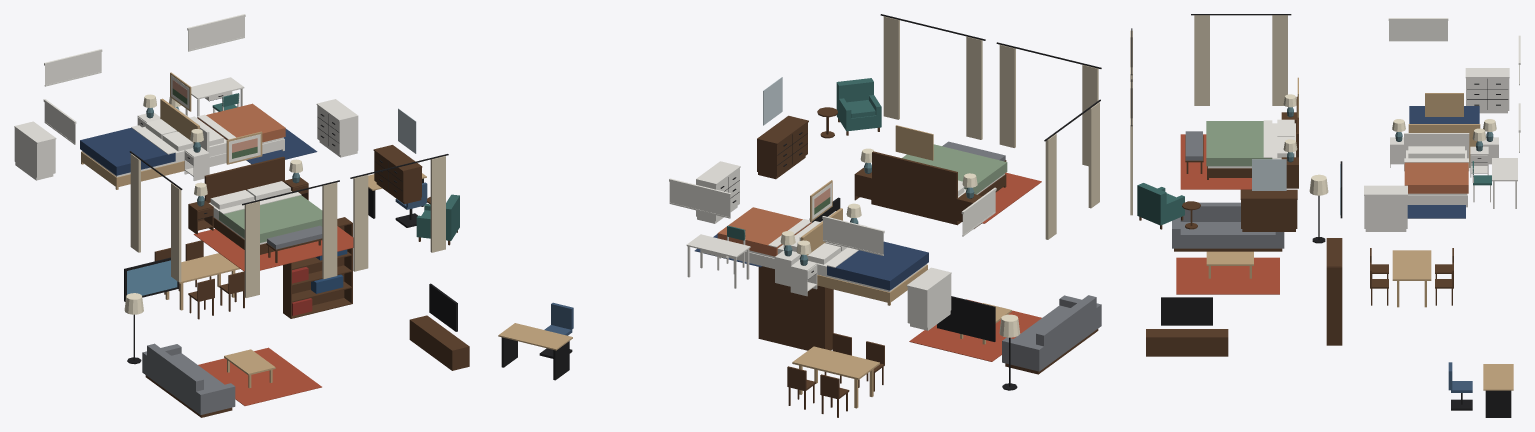
The model's file is furniture.glb.
3 renders of one model, left to right at view 1: azimuth 30°, elevation 25°; view 2: azimuth 150°, elevation 25°; view 3: azimuth 270°, elevation 25°, orthographic. The views are drawn at different scales.
Visible parts, largest first — view 1: Furn_curtains_1, Furn_bed_1, Furn_bed_2, Furn_sofa, Furn_bookcase, Furn_rug, Furn_bed_3, Furn_media_unit, Furn_rug_1, Furn_blinds_2, Furn_dresser_1, Furn_dresser_2 (+17 smaller); view 2: Furn_curtains_1, Furn_bed_1, Furn_bed_2, Furn_bookcase, Furn_sofa, Furn_bed_3, Furn_blinds_2, Furn_dresser_1, Furn_dresser_2, Furn_dining_chairs, Furn_rug, Furn_armchair_1 (+14 smaller); view 3: Furn_bed_3, Furn_bed_1, Furn_sofa, Furn_media_unit, Furn_curtains_1, Furn_rug, Furn_dresser_1, Furn_dresser_3, Furn_dresser_2, Furn_bookcase, Furn_bed_2, Furn_desk (+16 smaller).
Part boxes in pixels (x1=…): Furn_curtains_1: x1=129, y1=151, x2=448, y2=297; Furn_bed_1: x1=204, y1=156, x2=322, y2=254; Furn_bed_2: x1=80, y1=98, x2=199, y2=189; Furn_sofa: x1=142, y1=343, x2=235, y2=417; Furn_bookcase: x1=283, y1=217, x2=352, y2=318; Furn_rug: x1=198, y1=347, x2=321, y2=405; Furn_bed_3: x1=175, y1=103, x2=285, y2=166; Furn_media_unit: x1=409, y1=283, x2=469, y2=370; Furn_rug_1: x1=193, y1=226, x2=353, y2=271; Furn_blinds_2: x1=43, y1=49, x2=102, y2=144; Furn_dresser_1: x1=373, y1=145, x2=422, y2=204; Furn_dresser_2: x1=14, y1=121, x2=56, y2=180; Furn_curtains_1: x1=880, y1=14, x2=1101, y2=239; Furn_bed_1: x1=872, y1=144, x2=1007, y2=224; Furn_bed_2: x1=801, y1=208, x2=928, y2=305; Furn_bookcase: x1=758, y1=266, x2=833, y2=350; Furn_sofa: x1=1002, y1=295, x2=1101, y2=374; Furn_bed_3: x1=717, y1=207, x2=835, y2=268; Furn_blinds_2: x1=822, y1=187, x2=996, y2=255; Furn_dresser_1: x1=757, y1=115, x2=808, y2=179; Furn_dresser_2: x1=906, y1=267, x2=951, y2=330; Furn_dining_chairs: x1=787, y1=333, x2=884, y2=417; Furn_rug: x1=909, y1=299, x2=1041, y2=361; Furn_armchair_1: x1=836, y1=78, x2=881, y2=135; Furn_bed_3: x1=1404, y1=133, x2=1469, y2=207; Furn_bed_1: x1=1206, y1=96, x2=1298, y2=179; Furn_sofa: x1=1172, y1=202, x2=1284, y2=251; Furn_media_unit: x1=1146, y1=297, x2=1228, y2=356; Furn_curtains_1: x1=1130, y1=14, x2=1291, y2=215; Furn_rug: x1=1176, y1=257, x2=1279, y2=294; Furn_dresser_1: x1=1240, y1=189, x2=1297, y2=231; Furn_dresser_3: x1=1364, y1=185, x2=1407, y2=231; Furn_dresser_2: x1=1465, y1=68, x2=1509, y2=113; Furn_bookcase: x1=1326, y1=238, x2=1342, y2=345; Furn_bed_2: x1=1408, y1=106, x2=1480, y2=167; Furn_desk: x1=1483, y1=364, x2=1513, y2=417.
Bounding box in the file's own units: 10.36 × 5.56 × 9.02.
